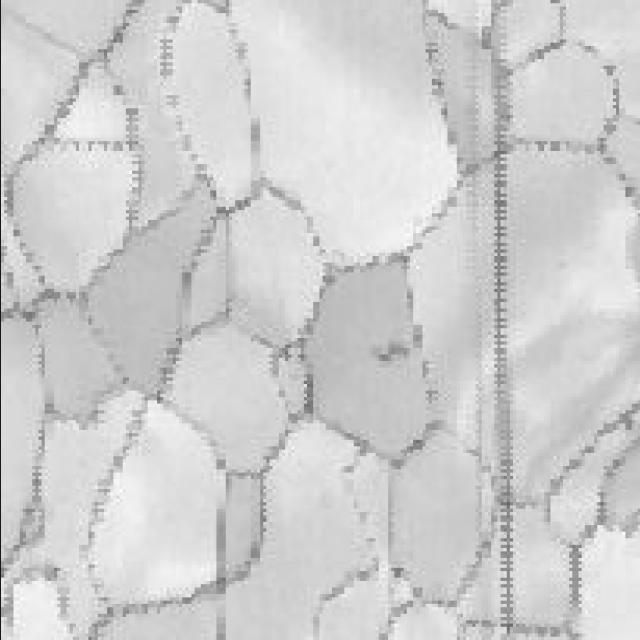good_void: (369, 335, 409, 363)
